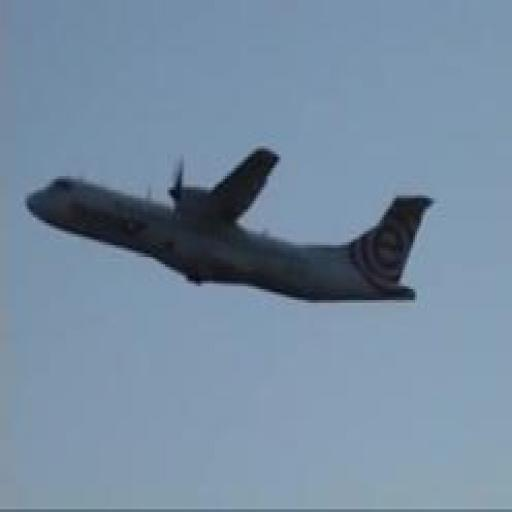aircraft: (26, 146, 436, 303)
